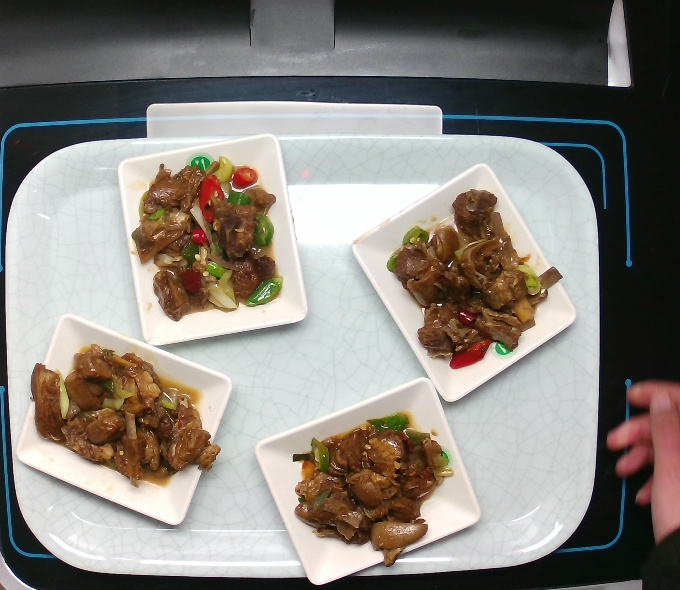wcq-YangRou: (21, 333, 236, 506), (383, 179, 569, 377), (270, 410, 482, 572), (120, 149, 295, 334)
